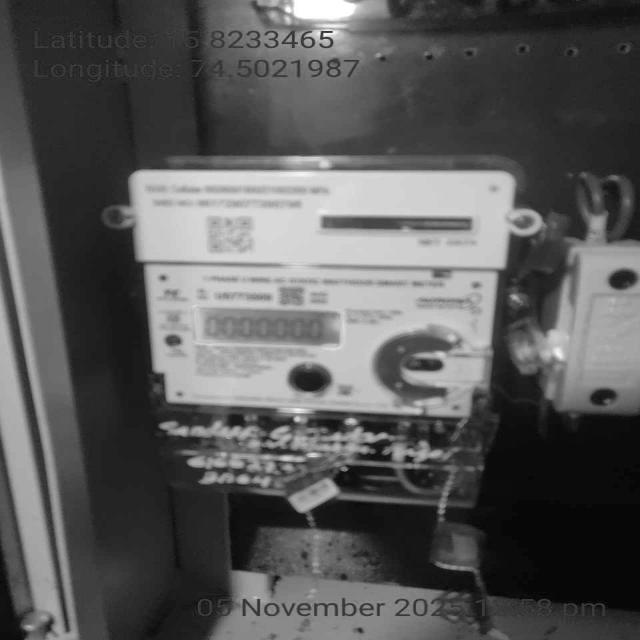meter: (131, 170, 516, 414)
